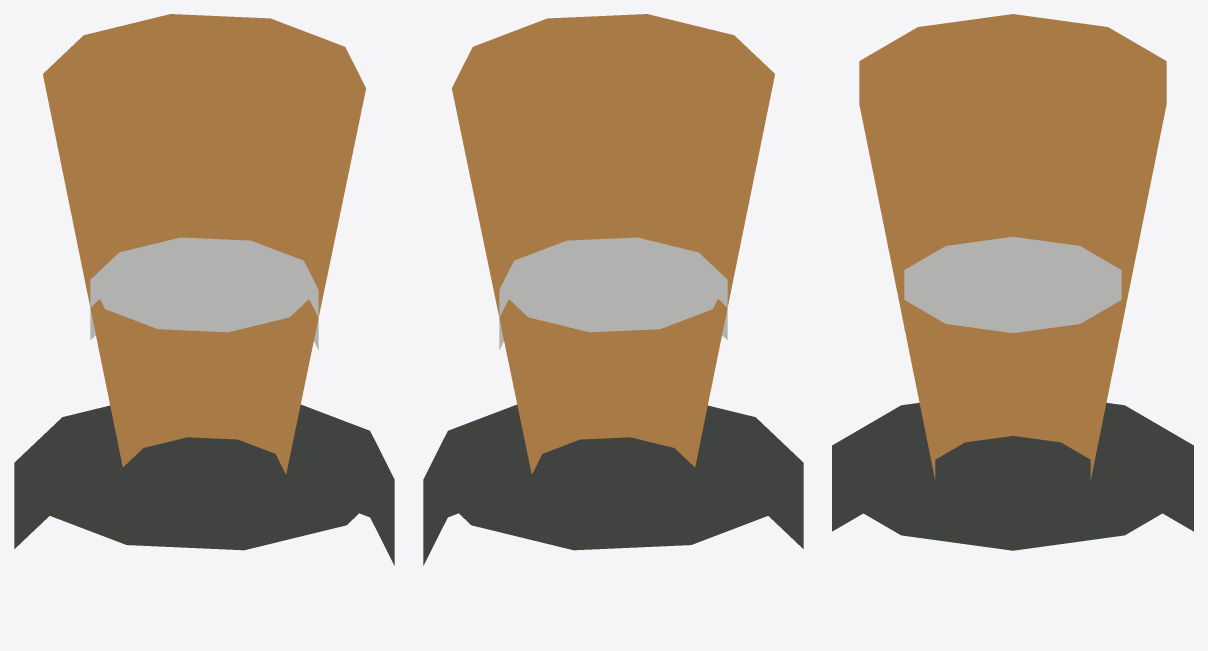
Rendered from p_konus.glb.
3 views of the same model, side by side, from view 1: azimuth 30°, elevation 25°; view 2: azimuth 150°, elevation 25°; view 3: azimuth 270°, elevation 25° (orthographic).
Parts seen in each view (by area): view 1: body; view 2: body; view 3: body.
Boxes of the visible parts, x1,y1,x2,y2 form: body: [14, 14, 394, 565]; body: [423, 14, 803, 565]; body: [832, 14, 1193, 550].
Size of the model in its own units: 0.4 by 0.55 by 0.3804.
